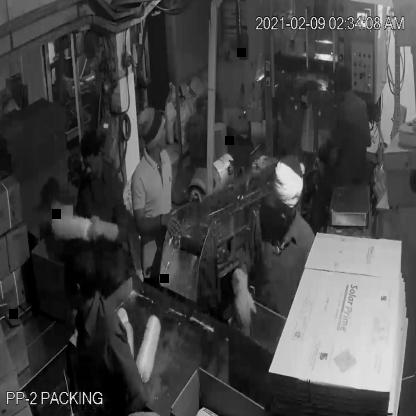glove: (223, 256, 256, 335), (83, 207, 127, 254)
no_glove: (129, 197, 181, 243), (108, 378, 154, 416), (167, 174, 204, 214)
